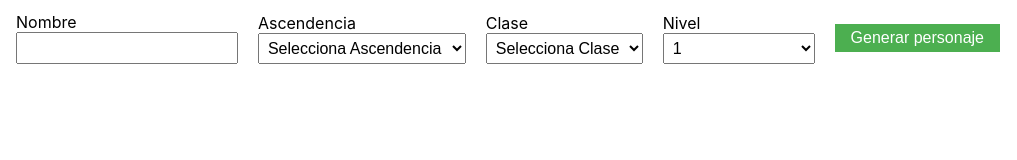
it: GenerateCharacter › shows an error when not all fields are filled and button is clicked
Select "Selecciona Ascendencia" in the dropdown labelled "Ascendencia" at x=362, y=48, box [258,32,466,64]
Select "Selecciona Clase" in the dropdown labelled "Clase" at x=564, y=48, box [486,32,643,64]
Select "Selecciona Nivel" in the dropdown labelled "Nivel" at x=739, y=48, box [663,32,815,64]
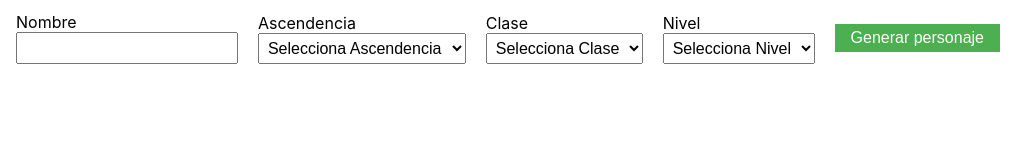
Simula el click en el botón
Click the button "Generar personaje" at x=917, y=38, box [835,24,1000,52]
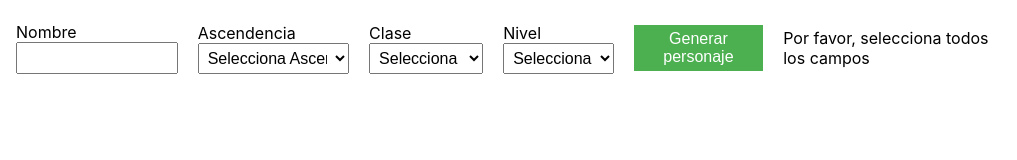
Check: the text "Por favor, selecciona todos los campos" is shown, box [783,28,1000,68]
